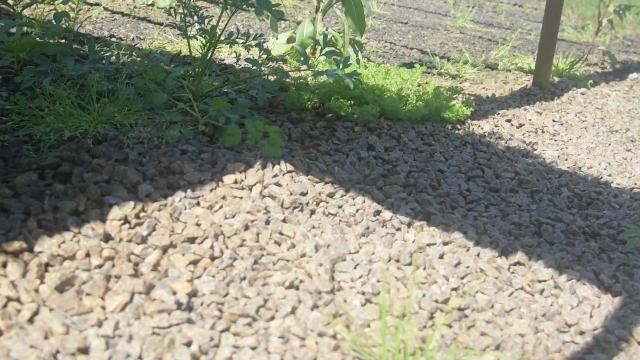MalezaMontesDelPlata: (155, 0, 293, 160), (321, 251, 504, 360), (285, 56, 475, 129), (0, 87, 151, 154), (261, 1, 368, 75), (0, 0, 86, 88), (87, 35, 160, 93), (491, 27, 535, 72), (551, 49, 596, 85), (446, 0, 482, 29)
